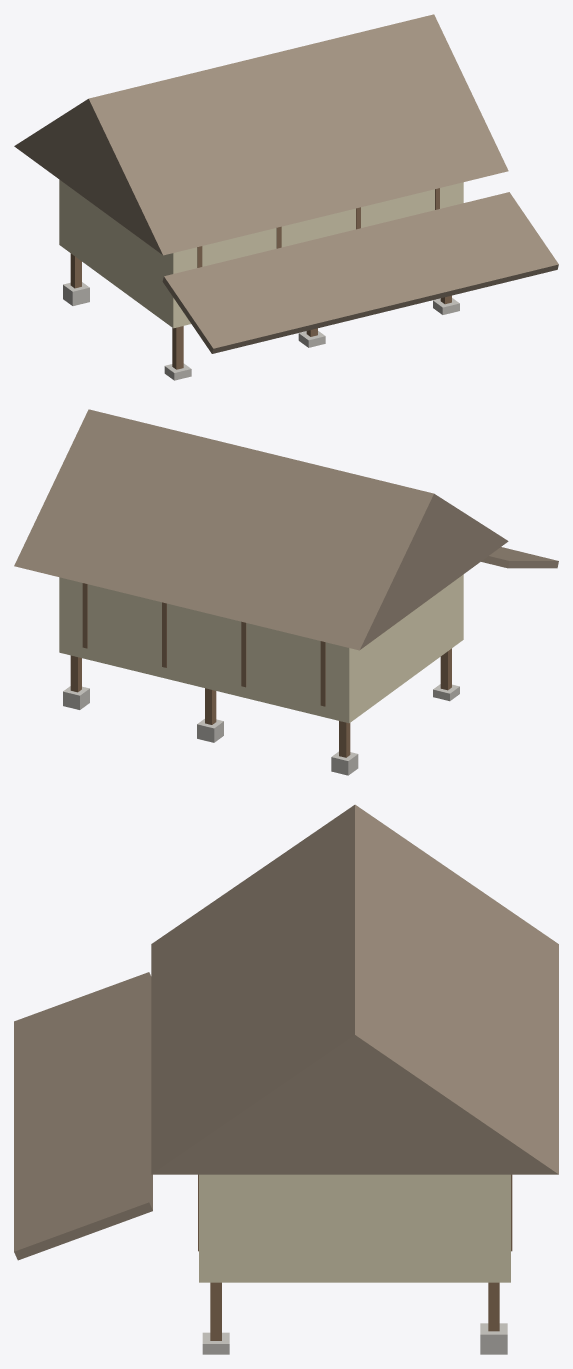
The model's file is sulah_nyanda.glb.
The picture shows the model from 3 angles, top to bottom: view 1: azimuth 30°, elevation 25°; view 2: azimuth 150°, elevation 25°; view 3: azimuth 270°, elevation 25°; orthographic projection. The views are drawn at different scales.
Parts seen in each view (by area): view 1: sn_atap, sn_sosoran, sn_badan, sn_lantai, sn_umpak_1, sn_tiang_0; view 2: sn_atap, sn_badan, sn_lantai, sn_sosoran, sn_umpak_1, sn_umpak_5, sn_umpak_3; view 3: sn_atap, sn_sosoran, sn_badan, sn_lantai, sn_umpak_5, sn_tiang_4.
Part boxes in pixels (box(x1,y1,x2,y2)): sn_atap: box(14, 14, 508, 255); sn_sosoran: box(162, 192, 558, 353); sn_badan: box(59, 179, 463, 321); sn_lantai: box(59, 238, 190, 328); sn_umpak_1: box(63, 282, 89, 305); sn_tiang_0: box(172, 326, 183, 369); sn_atap: box(14, 409, 508, 650); sn_badan: box(59, 574, 463, 716); sn_lantai: box(59, 633, 463, 723); sn_sosoran: box(481, 547, 558, 568); sn_umpak_1: box(331, 751, 358, 775); sn_umpak_5: box(63, 686, 89, 709); sn_umpak_3: box(197, 719, 223, 742); sn_atap: box(151, 804, 558, 1174); sn_sosoran: box(14, 972, 152, 1260); sn_badan: box(199, 1174, 510, 1272); sn_lantai: box(199, 1273, 510, 1282); sn_umpak_5: box(480, 1323, 507, 1354); sn_tiang_4: box(210, 1282, 221, 1340).
Size of the model in its own units: 5.24 by 3.6 by 5.24.
